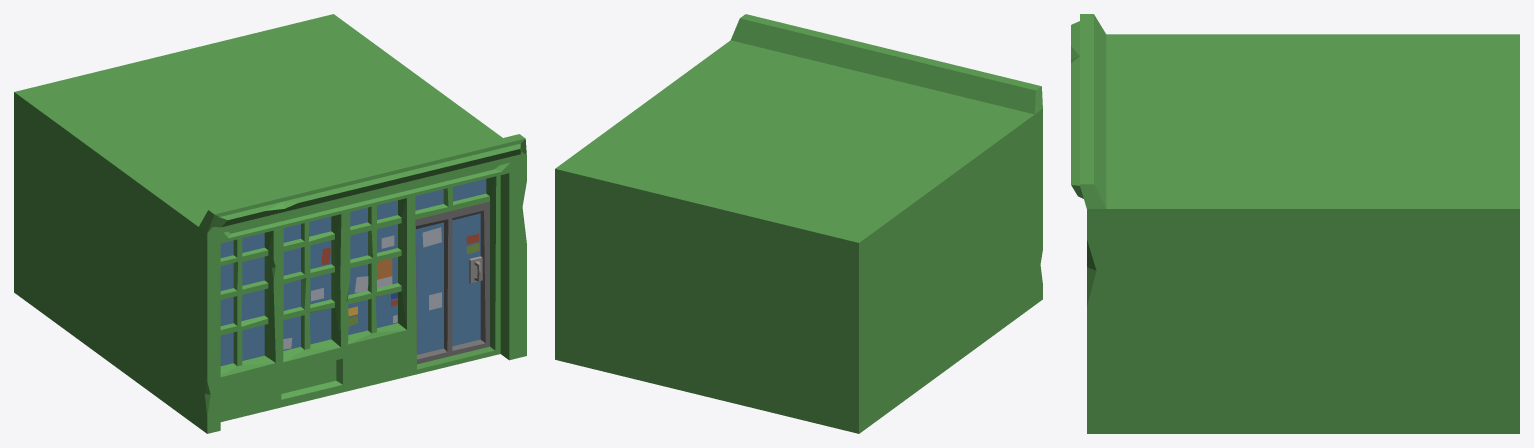
File: Mod_Tienda_4.fbx
The picture shows the model from 3 angles, left to right: view 1: azimuth 30°, elevation 25°; view 2: azimuth 150°, elevation 25°; view 3: azimuth 270°, elevation 25°; orthographic projection. The views are drawn at different scales.
Visible parts, largest first — view 1: SM_Bld_Shop_02, SM_Bld_Shop_02_Glass; view 2: SM_Bld_Shop_02; view 3: SM_Bld_Shop_02.
Boxes of the visible parts, <box> form: SM_Bld_Shop_02: <box>14,14,526,433</box>; SM_Bld_Shop_02_Glass: <box>220,179,486,366</box>; SM_Bld_Shop_02: <box>555,14,1042,433</box>; SM_Bld_Shop_02: <box>1071,14,1519,433</box>.
Bounding box in the file's own units: 5 × 3.3 × 5.43.
